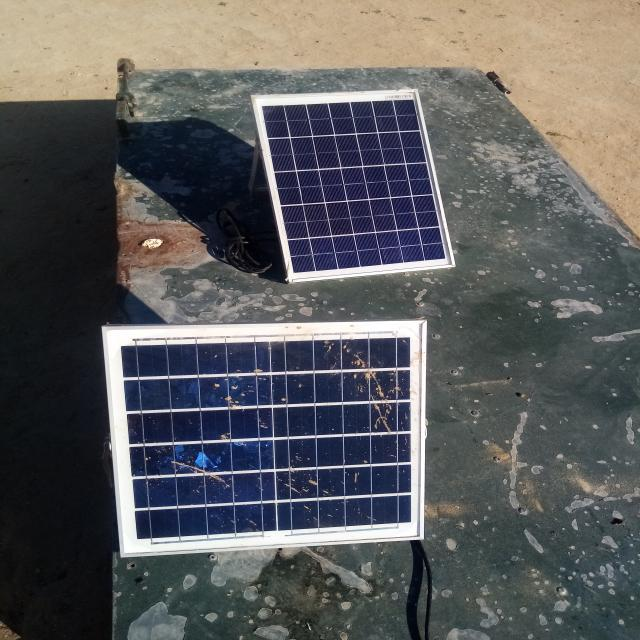faulty: (103, 321, 428, 557)
no faulty: (254, 89, 456, 280)
